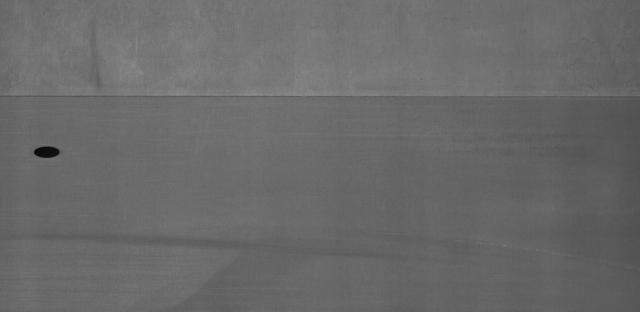punching_hole: (29, 142, 69, 161)
welding_line: (3, 87, 640, 110)
